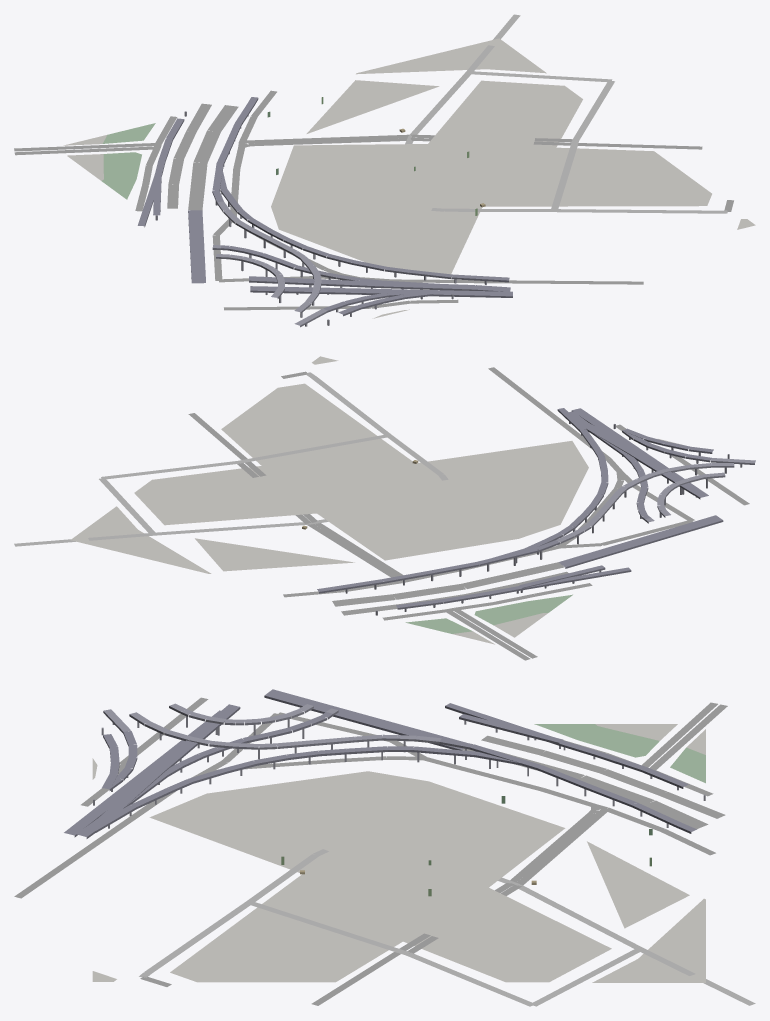
3 renders of one model, top to bottom at view 1: azimuth 30°, elevation 25°; view 2: azimuth 150°, elevation 25°; view 3: azimuth 270°, elevation 25°, orthographic. The views are drawn at different scales.
Bounding box in the file's own units: 598 × 16.69 × 605.
